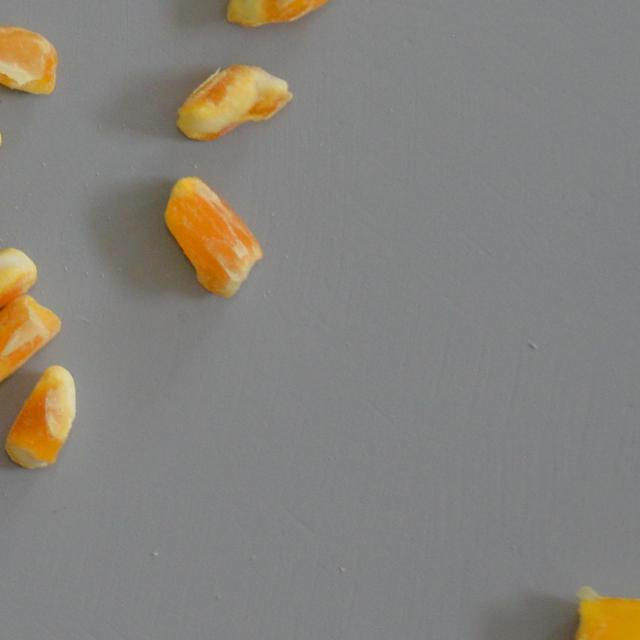dañado: (0, 365, 83, 475), (0, 244, 38, 320)
pelicula: (161, 175, 266, 300), (172, 62, 295, 142), (0, 20, 59, 98), (559, 584, 640, 640), (0, 288, 42, 392), (222, 0, 346, 30)
